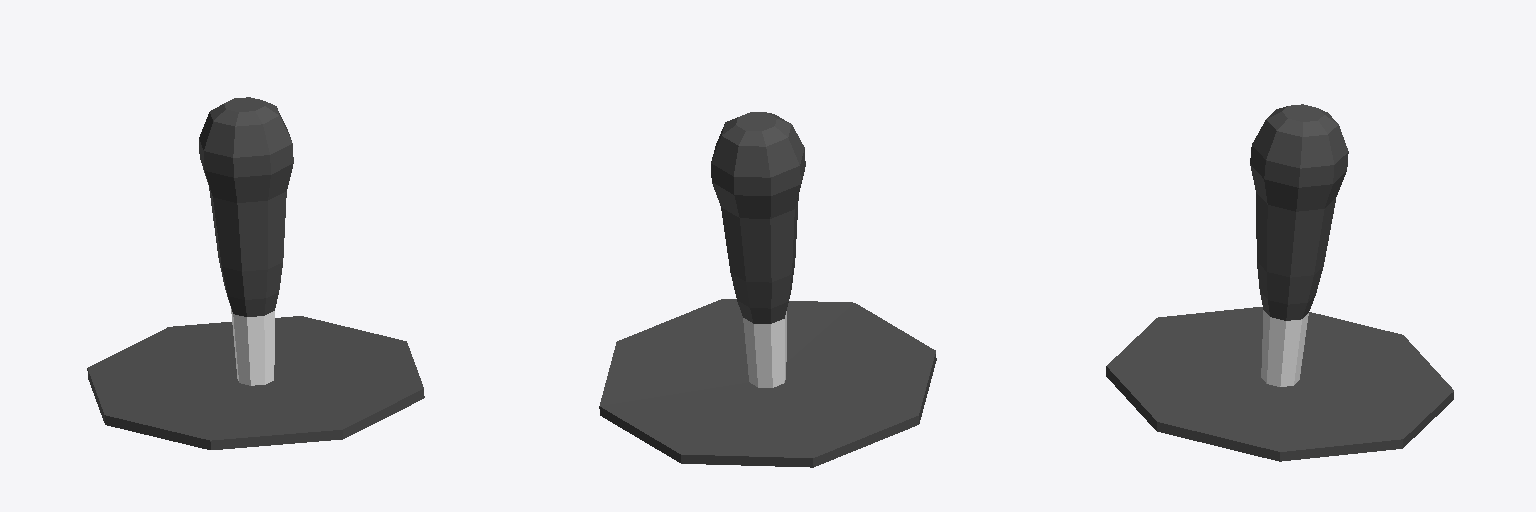
The model's file is Yoistickk.obj.
3 views of the same model, side by side, from view 1: azimuth 30°, elevation 25°; view 2: azimuth 150°, elevation 25°; view 3: azimuth 270°, elevation 25° (orthographic).
Parts seen in each view (by area): view 1: Yoistickk; view 2: Yoistickk; view 3: Yoistickk.
Boxes of the visible parts, x1,y1,x2,y2 form: Yoistickk: [87, 97, 424, 449]; Yoistickk: [599, 112, 936, 467]; Yoistickk: [1106, 104, 1453, 461].
Size of the model in its own units: 0.66 by 0.6018 by 0.6596.